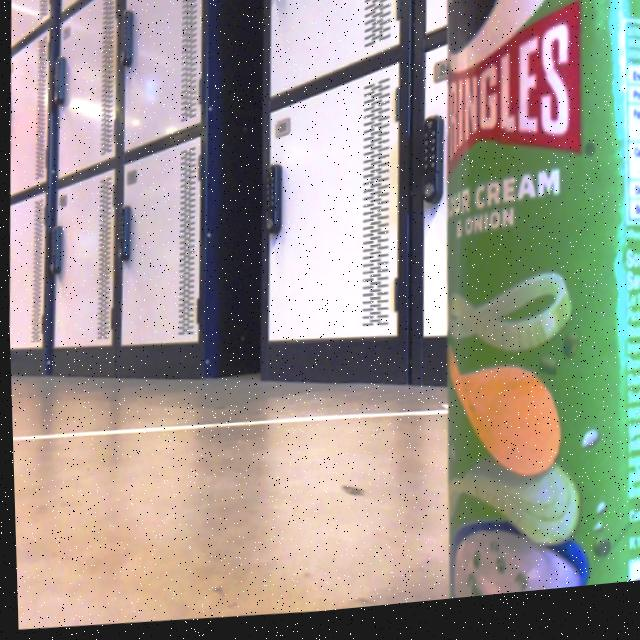greenpringles: (392, 0, 640, 610)
